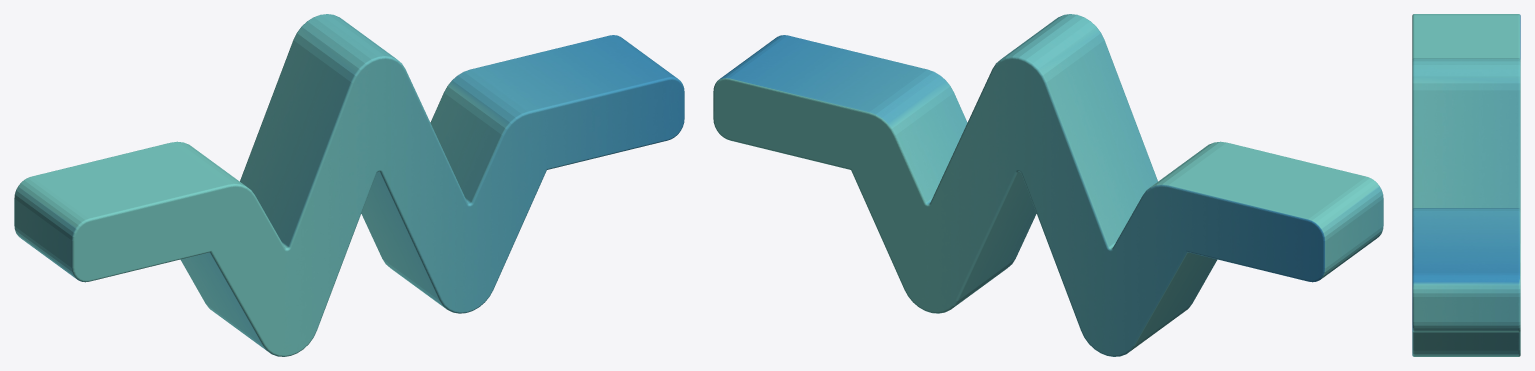
File: patientjourney.gltf
The picture shows the model from 3 angles, left to right: view 1: azimuth 30°, elevation 25°; view 2: azimuth 150°, elevation 25°; view 3: azimuth 270°, elevation 25°; orthographic projection. The views are drawn at different scales.
Parts seen in each view (by area): view 1: |Part2|Root|color; view 2: |Part2|Root|color; view 3: |Part2|Root|color.
Part boxes in pixels (<box>): |Part2|Root|color: <box>14,14,684,356</box>; |Part2|Root|color: <box>713,14,1383,356</box>; |Part2|Root|color: <box>1412,14,1520,356</box>.
Size of the model in its own units: 1.44 by 0.6241 by 0.242.
Materials: 1 (1 with a texture image).
